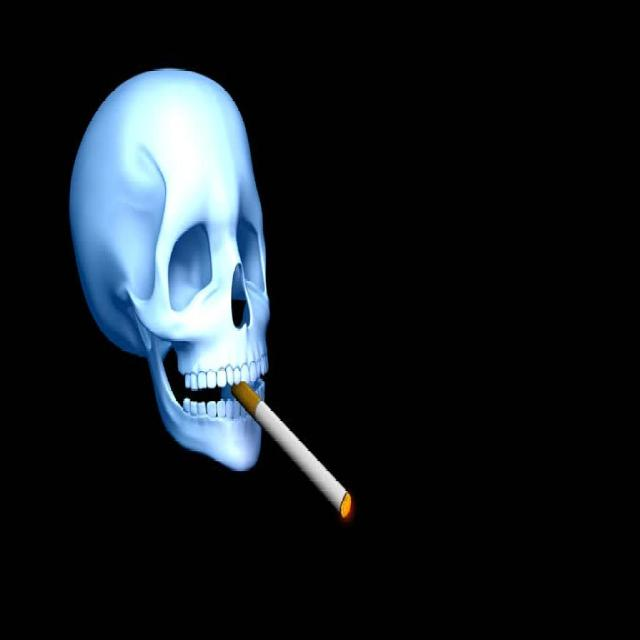smoking: (167, 303, 428, 547)
